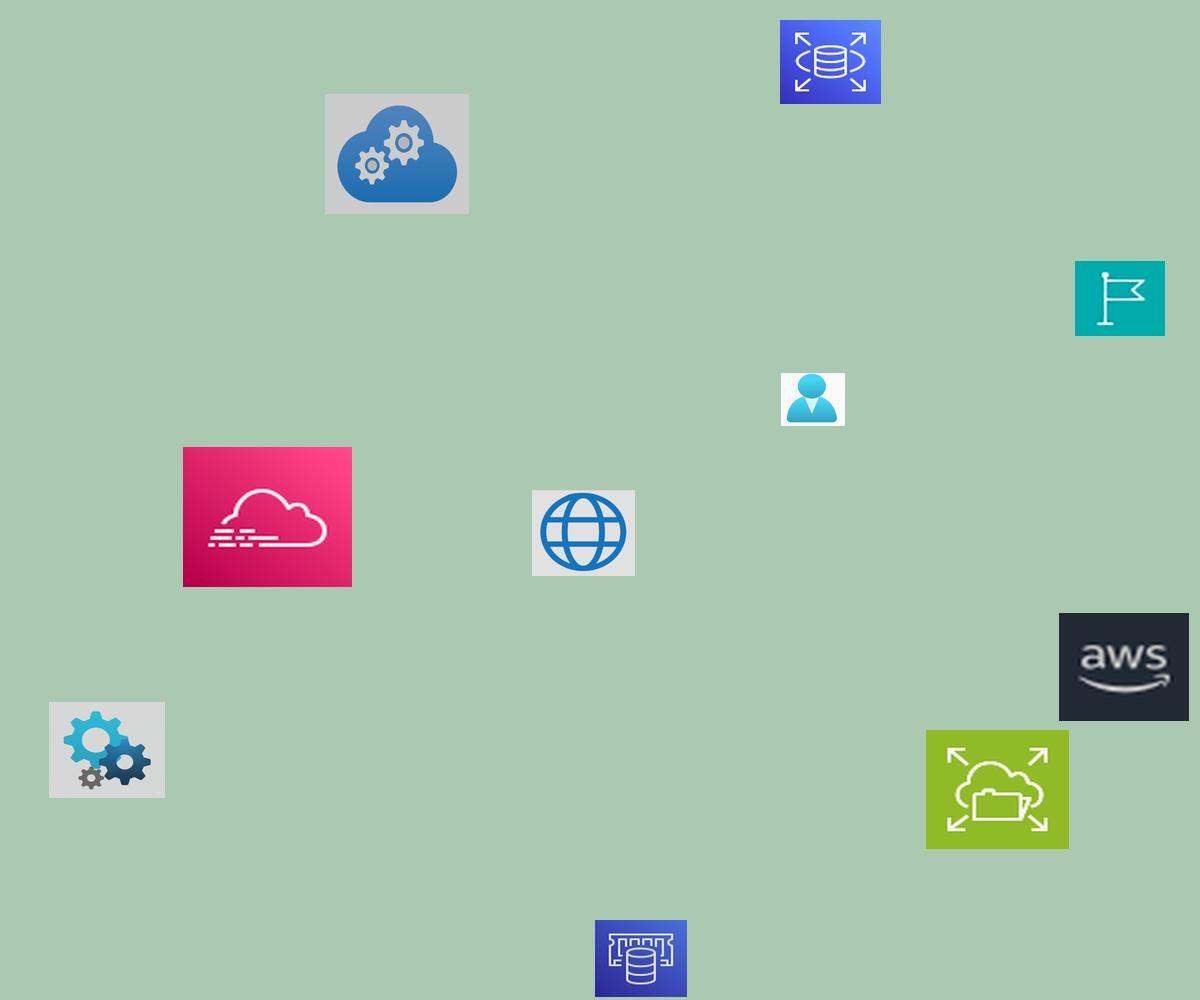AWS-Cloud-logo: (1059, 613, 1189, 721)
AWS-CloudTrail: (183, 447, 352, 587)
AWS-EFS: (926, 730, 1069, 849)
AWS-ElastiCache: (595, 920, 687, 997)
AWS-RDS: (780, 20, 881, 104)
AWS-Region: (1075, 261, 1165, 336)
Azure_api: (49, 702, 165, 798)
Azure_cloud_services: (325, 94, 469, 214)
Azure_http: (532, 490, 635, 576)
Azure_users: (781, 373, 845, 426)
